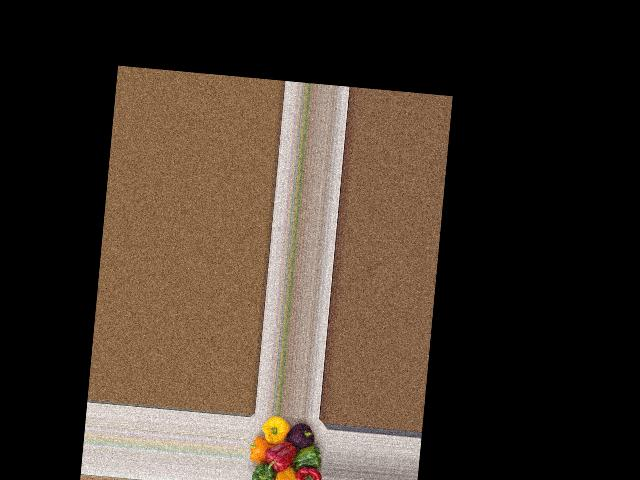bell_pepper: (284, 422, 322, 455)
